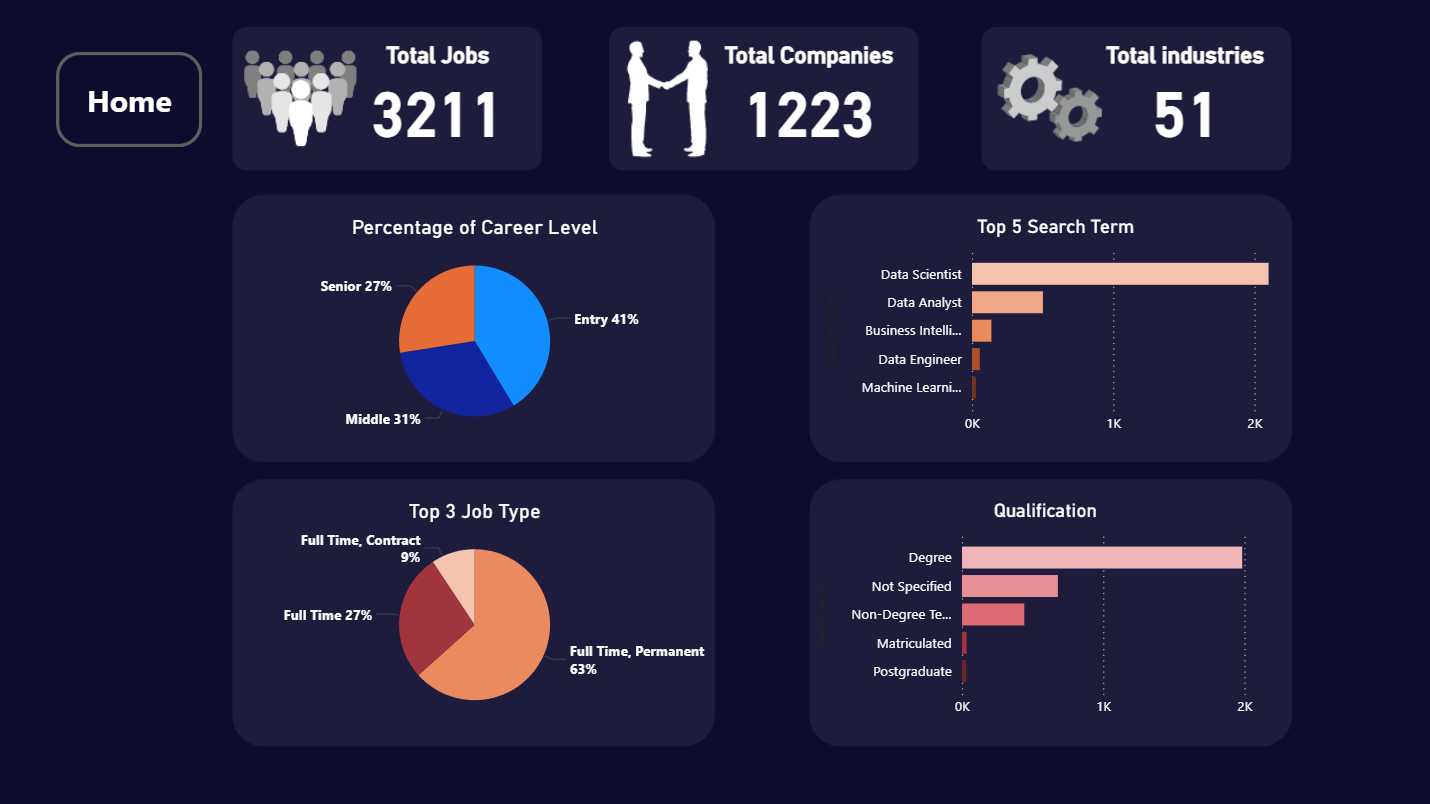

The page's visual inventory and layout, read from the dashboard file:
{"tool":"powerbi","page":{"name":"Summary","canvas":[1280,720],"ordinal":1},"visuals":[{"type":"card","title":"Total Jobs","fields":{"Values":["Measues 1.total_jobs"]},"box":[308.7,38.4,170.2,93.3],"z":0},{"type":"card","title":"Total Companies","fields":{"Values":["Measues 1.total_company"]},"box":[639.5,38.4,170.2,93.3],"z":1000},{"type":"card","title":"Total industries","fields":{"Values":["Measues 1.Total_industry"]},"box":[974.3,38.4,170.2,93.3],"z":2000},{"type":"pieChart","title":"Percentage of Career Level","fields":{"Category":["dc_jobs.Career Level"],"Y":["CountNonNull(dc_jobs.Career Level)"]},"box":[214.1,193.5,425.4,203.1],"z":3000},{"type":"clusteredBarChart","title":"Top 5 Search Term","fields":{"Category":["dc_jobs.Search Term"],"Y":["CountNonNull(dc_jobs.Search Term)"]},"box":[734.1,193.5,419.9,203.1],"z":4000},{"type":"pieChart","title":"Top 3 Job Type","fields":{"Category":["dc_jobs.Job Type"],"Y":["CountNonNull(dc_jobs.Job Type)"]},"box":[214.1,446,425.4,203.1],"z":5000},{"type":"clusteredBarChart","title":"Qualification","fields":{"Category":["dc_jobs.Qualification"],"Y":["CountNonNull(dc_jobs.Qualification)"]},"box":[724.5,446,419.9,203.1],"z":6000},{"type":"actionButton","box":[53.5,48,130.4,85.1],"z":6002}]}

Visuals, with their boxes in screenshot pixels (x1, y1, x2, y2), scaled from the page's 1280x720 canvas onto the 1430x804 screenshot:
"Total Jobs" card: select_region(345, 43, 535, 147)
"Total Companies" card: select_region(714, 43, 905, 147)
"Total industries" card: select_region(1088, 43, 1279, 147)
"Percentage of Career Level" pieChart: select_region(239, 216, 714, 443)
"Top 5 Search Term" clusteredBarChart: select_region(820, 216, 1289, 443)
"Top 3 Job Type" pieChart: select_region(239, 498, 714, 725)
"Qualification" clusteredBarChart: select_region(809, 498, 1279, 725)
actionButton: select_region(60, 54, 205, 149)
